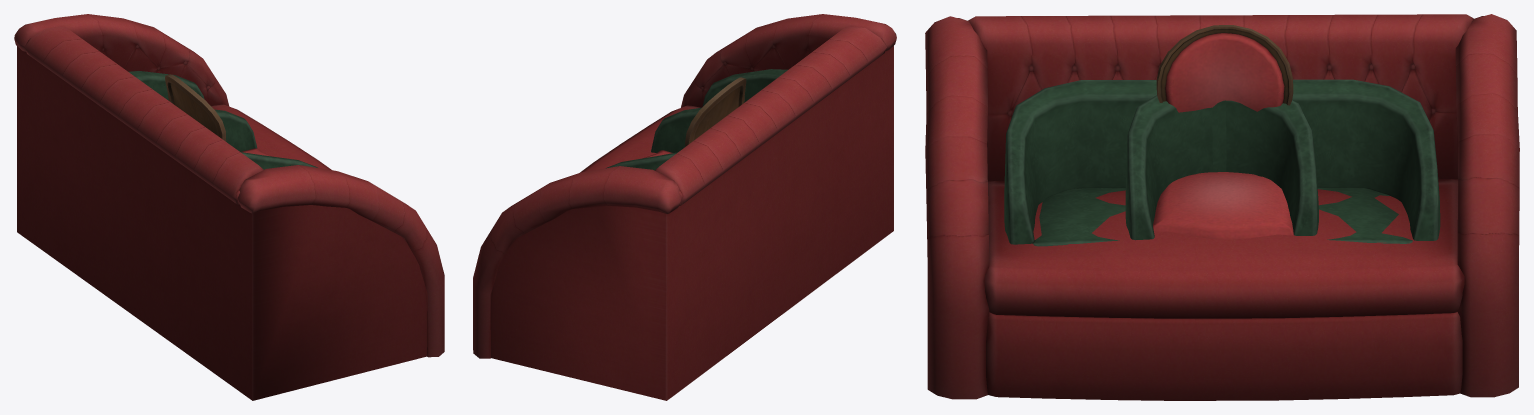
Rendered from Chairs.fbx.
The picture shows the model from 3 angles, left to right: view 1: azimuth 30°, elevation 25°; view 2: azimuth 150°, elevation 25°; view 3: azimuth 270°, elevation 25°; orthographic projection. The views are drawn at different scales.
Parts seen in each view (by area): view 1: Sofa_low, Chair, Arm_Chair, Sofa; view 2: Sofa_low, Arm_Chair, Chair, Sofa; view 3: Sofa_low, Sofa, Chair, Arm_Chair.
Boxes of the visible parts, left/top/right/bottom form: Sofa_low: left=14, top=14, right=444, bottom=400; Chair: left=165, top=74, right=272, bottom=156; Arm_Chair: left=215, top=109, right=317, bottom=169; Sofa: left=128, top=71, right=204, bottom=100; Sofa_low: left=473, top=14, right=896, bottom=400; Arm_Chair: left=606, top=107, right=701, bottom=170; Chair: left=643, top=77, right=746, bottom=158; Sofa: left=702, top=69, right=787, bottom=106; Sofa_low: left=925, top=14, right=1519, bottom=400; Sofa: left=1004, top=79, right=1440, bottom=246; Chair: left=1153, top=25, right=1293, bottom=239; Arm_Chair: left=1125, top=95, right=1318, bottom=240.
Bounding box in the file's own units: 100 × 98.2 × 190.
Materials: 2 (2 with a texture image).
